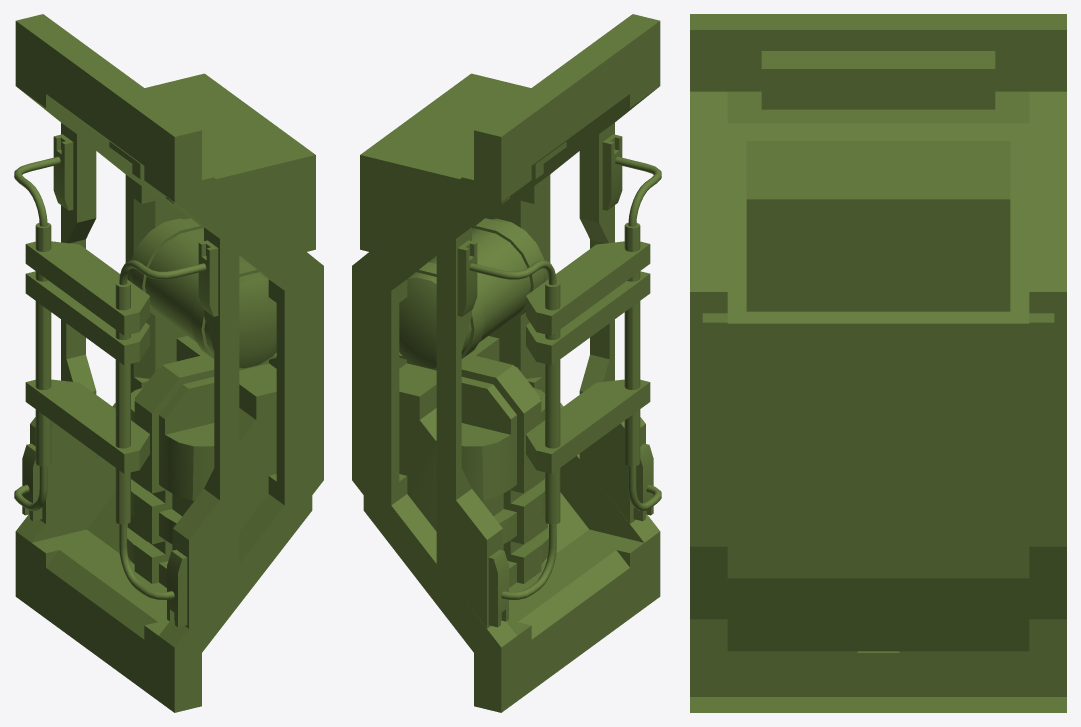
File: Wall_A_4x2m.FBX
The picture shows the model from 3 angles, left to right: view 1: azimuth 30°, elevation 25°; view 2: azimuth 150°, elevation 25°; view 3: azimuth 270°, elevation 25°; orthographic projection. The views are drawn at different scales.
Parts seen in each view (by area): view 1: Wall_A_4x2m; view 2: Wall_A_4x2m; view 3: Wall_A_4x2m.
Boxes of the visible parts, x1,y1,x2,y2 form: Wall_A_4x2m: (14,14,323,712); Wall_A_4x2m: (352,14,661,712); Wall_A_4x2m: (690,14,1066,712).
Bounding box in the file's own units: 135 × 400 × 200.
